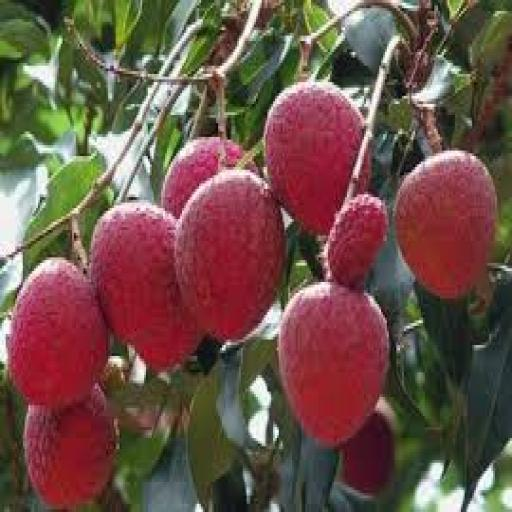lychee: (92, 203, 201, 369), (177, 170, 284, 339), (279, 283, 388, 446), (264, 83, 364, 235), (8, 258, 108, 407), (395, 151, 496, 298), (25, 387, 115, 509), (162, 137, 242, 219), (325, 195, 388, 287), (342, 400, 394, 495)
